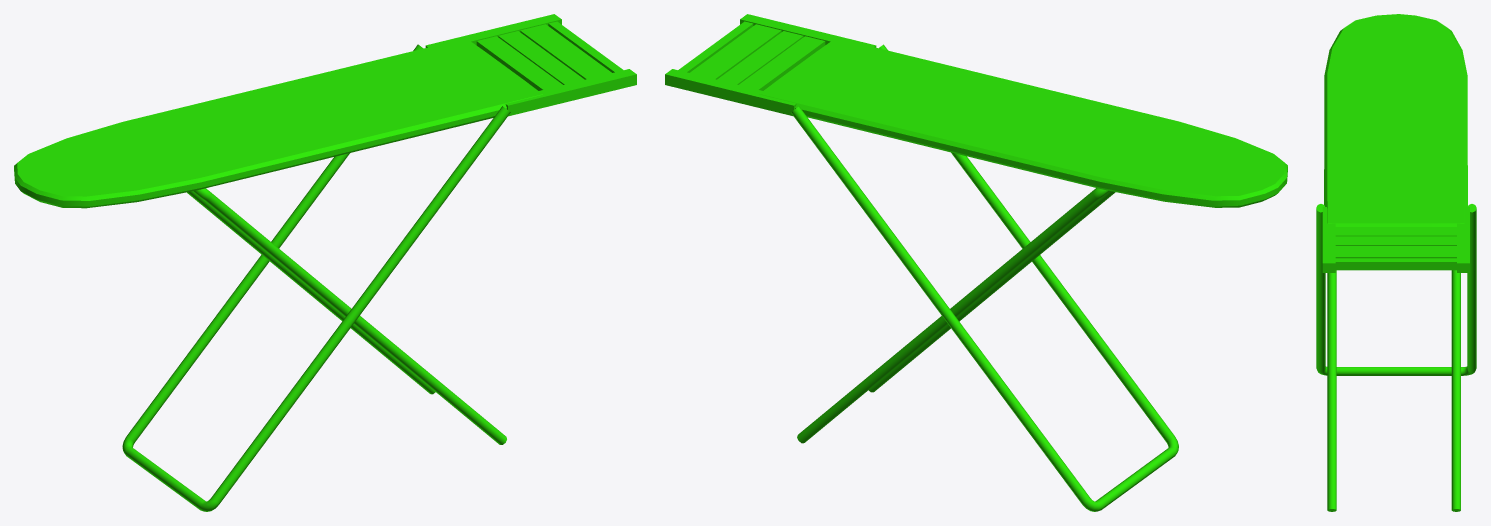
The model's file is Ironing_Board_01_Lod0.fbx.
3 views of the same model, side by side, from view 1: azimuth 30°, elevation 25°; view 2: azimuth 150°, elevation 25°; view 3: azimuth 270°, elevation 25° (orthographic). The views are drawn at different scales.
Parts seen in each view (by area): view 1: Ironing_Board_01_Lod0; view 2: Ironing_Board_01_Lod0; view 3: Ironing_Board_01_Lod0.
Boxes of the visible parts, x1=… form: Ironing_Board_01_Lod0: x1=14, y1=14, x2=636, y2=511; Ironing_Board_01_Lod0: x1=665, y1=14, x2=1287, y2=511; Ironing_Board_01_Lod0: x1=1316, y1=14, x2=1476, y2=511.
Size of the model in its own units: 168 by 95.87 by 45.43.
